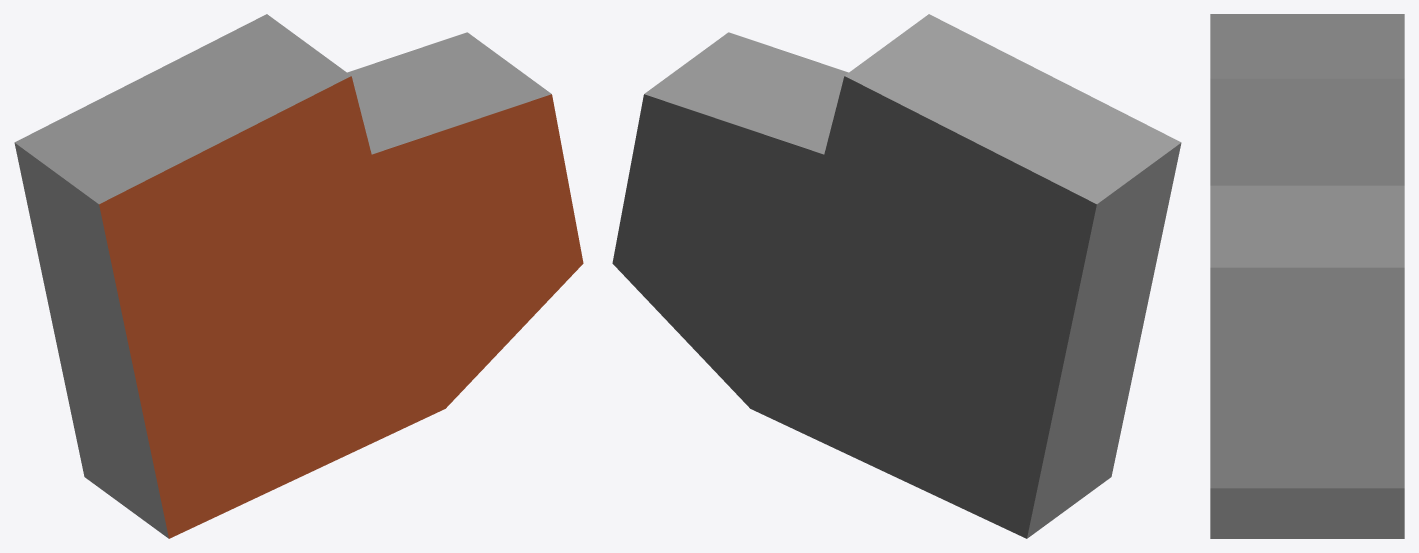
The model's file is construction_5873_assumed_A_Casa_h6m.obj.
The picture shows the model from 3 angles, left to right: view 1: azimuth 30°, elevation 25°; view 2: azimuth 150°, elevation 25°; view 3: azimuth 270°, elevation 25°; orthographic projection. The views are drawn at different scales.
Visible parts, largest first — view 1: construction_5873_assumed_A_Casa; view 2: construction_5873_assumed_A_Casa; view 3: construction_5873_assumed_A_Casa.
Boxes of the visible parts, x1,y1,x2,y2 form: construction_5873_assumed_A_Casa: (14,14,583,538); construction_5873_assumed_A_Casa: (612,14,1181,538); construction_5873_assumed_A_Casa: (1210,14,1404,538).
Size of the model in its own units: 19.83 by 16.37 by 6.
